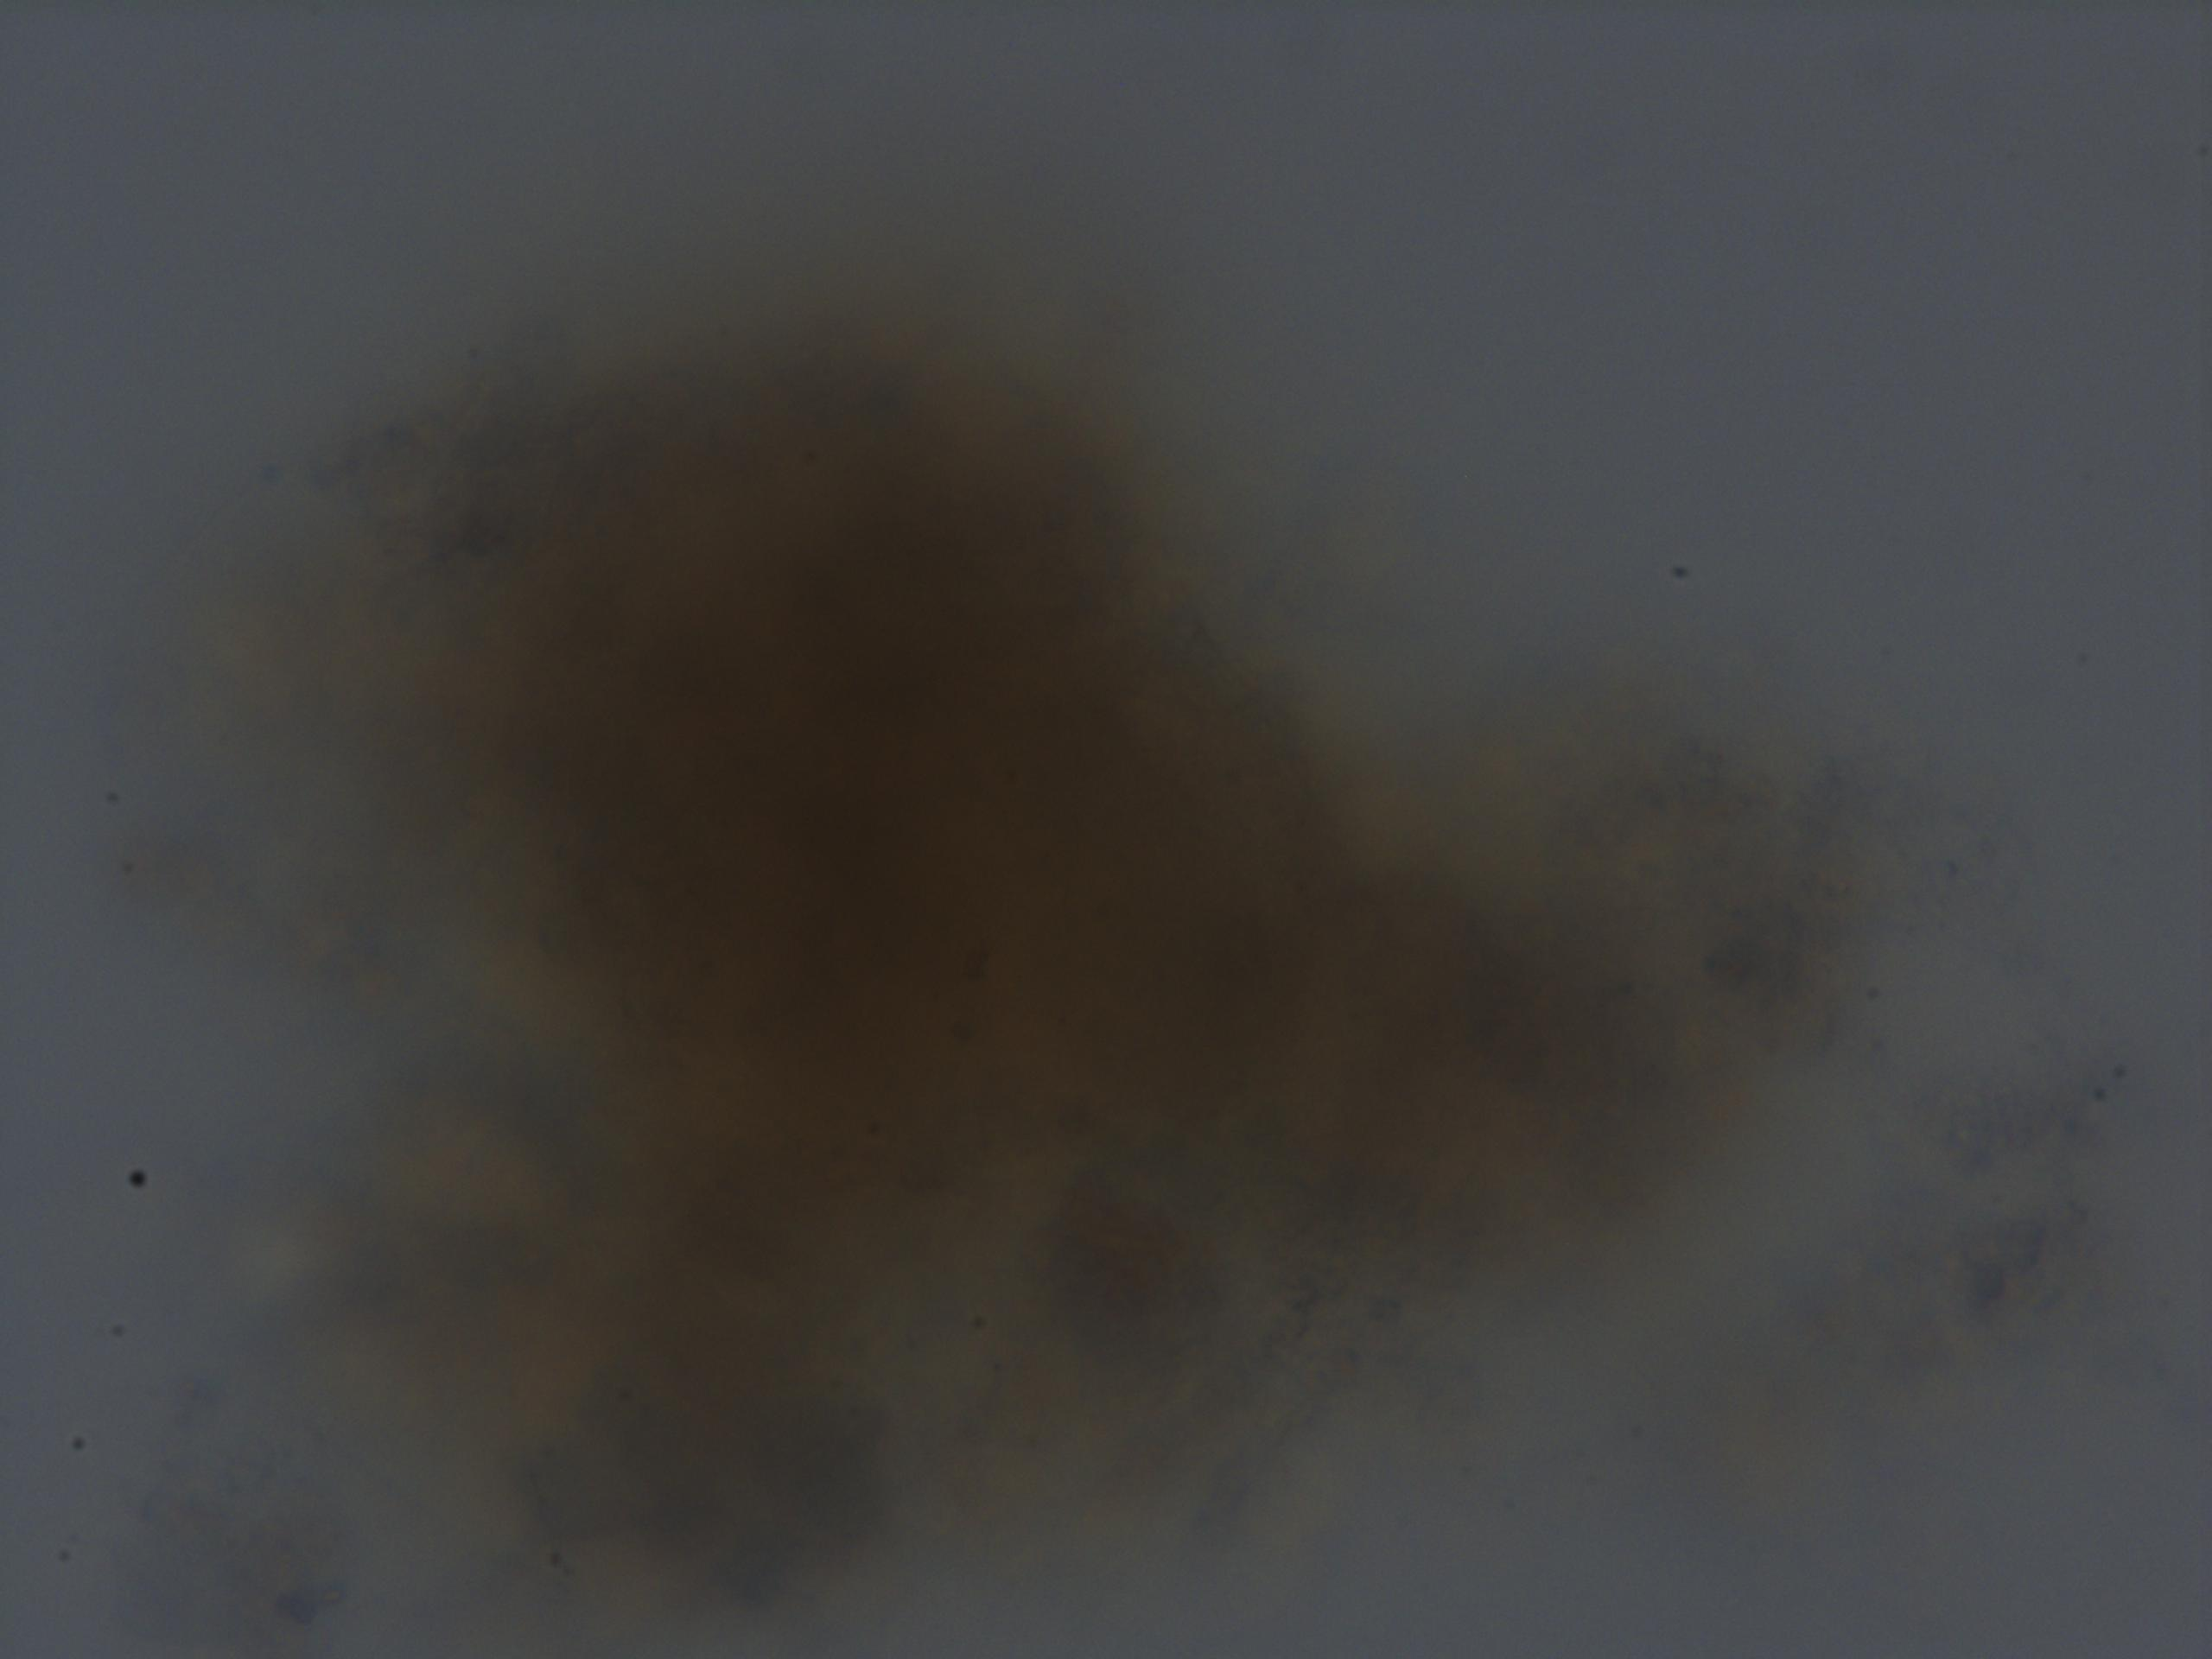spherical_floc: (244, 277, 1810, 1612)
